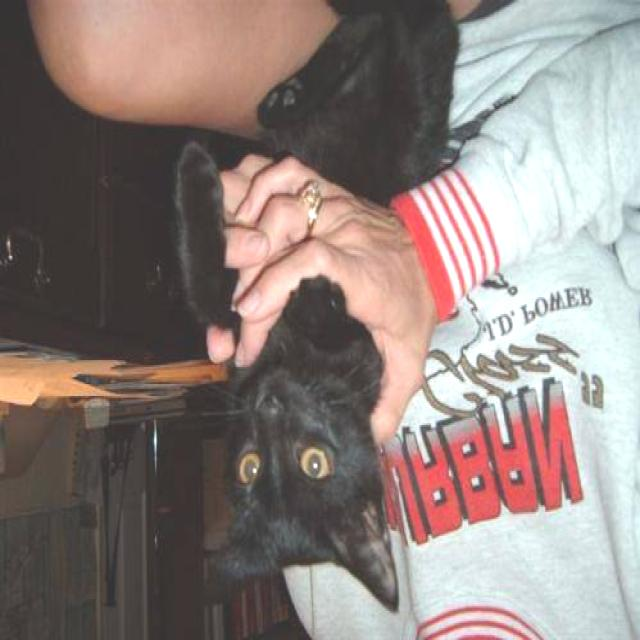Kucing: (175, 277, 457, 594)
